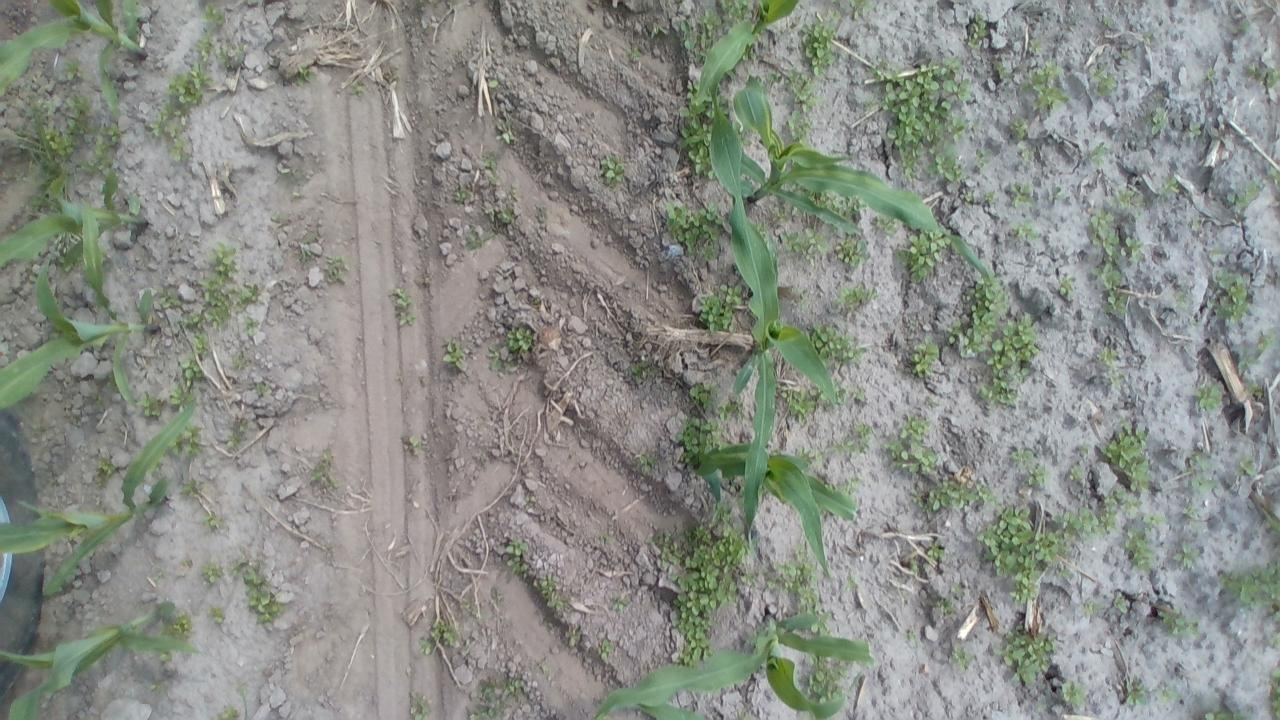Maize: (708, 88, 838, 550), (737, 75, 991, 282), (1, 398, 197, 599), (593, 612, 875, 720), (1, 252, 161, 406), (0, 600, 202, 720), (0, 168, 150, 319), (688, 444, 856, 574), (0, 0, 151, 113), (692, 0, 799, 113), (633, 701, 702, 717)
Weeds: (661, 526, 743, 660), (876, 62, 950, 172), (18, 111, 72, 196), (992, 314, 1036, 402), (979, 505, 1034, 572), (948, 287, 1002, 353), (666, 204, 720, 264), (1002, 632, 1058, 684), (1221, 564, 1280, 610), (774, 560, 816, 610), (788, 76, 818, 139), (803, 24, 837, 77), (1214, 268, 1250, 318), (170, 63, 212, 104), (1053, 508, 1101, 538), (202, 278, 232, 324), (1100, 264, 1126, 313), (698, 298, 733, 334), (682, 418, 721, 449), (910, 234, 940, 274), (1094, 212, 1120, 257), (1186, 454, 1216, 493), (1034, 84, 1066, 120), (946, 481, 992, 506), (1123, 528, 1153, 566), (1156, 606, 1194, 634), (905, 441, 937, 474), (809, 662, 840, 696), (250, 590, 282, 622), (915, 334, 940, 373), (312, 451, 338, 488), (1108, 434, 1136, 468), (47, 126, 80, 154), (1020, 62, 1058, 86), (1104, 488, 1124, 532), (214, 242, 238, 278), (1033, 532, 1059, 564), (1011, 571, 1036, 604), (1126, 460, 1151, 491), (814, 326, 845, 350), (900, 417, 927, 444), (836, 340, 866, 364), (788, 391, 812, 420), (94, 127, 118, 156), (968, 10, 986, 48), (936, 152, 958, 182), (1228, 179, 1258, 201), (507, 328, 534, 352), (150, 114, 182, 134), (1175, 542, 1200, 567), (138, 392, 162, 418), (838, 284, 871, 302), (487, 344, 509, 371), (840, 435, 871, 454), (1085, 141, 1109, 165), (202, 562, 225, 587), (883, 440, 910, 461), (1200, 386, 1222, 411), (1028, 462, 1049, 488), (944, 80, 971, 100), (168, 139, 191, 162), (602, 158, 624, 182), (410, 694, 430, 720), (720, 282, 744, 303), (328, 256, 346, 284), (1126, 677, 1144, 705), (680, 106, 705, 126), (1010, 184, 1032, 206), (927, 489, 949, 511), (1061, 679, 1082, 702), (1122, 236, 1142, 260), (806, 229, 825, 254), (689, 149, 708, 174), (1150, 110, 1168, 136), (1116, 189, 1138, 210), (837, 242, 856, 266), (201, 6, 226, 24), (192, 333, 212, 355), (682, 19, 696, 50), (170, 388, 194, 406), (1256, 66, 1276, 87), (703, 10, 724, 30), (780, 232, 802, 251), (68, 95, 94, 111), (846, 1, 870, 18), (1096, 70, 1116, 90), (679, 126, 697, 148), (1114, 46, 1134, 65), (700, 390, 719, 410), (443, 342, 462, 362), (174, 615, 193, 634), (62, 60, 82, 78), (1096, 346, 1116, 364), (494, 126, 514, 144), (240, 286, 260, 304), (711, 504, 731, 522), (436, 625, 454, 645), (476, 680, 496, 698), (244, 566, 262, 586), (197, 37, 212, 61), (637, 454, 654, 475), (1272, 676, 1280, 720), (947, 117, 963, 139), (182, 313, 205, 328), (506, 542, 530, 556), (470, 706, 494, 720), (954, 648, 970, 669), (726, 1, 748, 16), (1010, 119, 1028, 137), (508, 557, 528, 573), (183, 426, 204, 441), (694, 124, 708, 146), (992, 62, 1009, 80), (1259, 332, 1275, 351), (1206, 706, 1227, 720), (1056, 278, 1074, 294), (423, 636, 439, 654), (599, 639, 612, 661), (99, 459, 118, 474), (296, 66, 310, 86), (540, 576, 560, 590), (1114, 592, 1128, 612), (1012, 449, 1033, 462), (874, 218, 895, 231), (395, 289, 411, 306), (209, 608, 226, 624), (1068, 466, 1086, 481), (483, 152, 498, 170), (184, 362, 202, 377), (218, 706, 240, 718), (544, 592, 560, 608), (944, 56, 962, 70), (396, 312, 414, 326), (926, 544, 944, 558), (716, 404, 732, 419), (630, 366, 646, 381), (505, 678, 525, 690), (469, 233, 482, 251), (1239, 456, 1257, 469), (976, 149, 988, 168), (1141, 512, 1160, 524), (688, 383, 703, 398), (1188, 122, 1202, 138), (1102, 16, 1118, 30), (613, 594, 629, 608), (938, 598, 952, 614), (1057, 566, 1074, 579), (1020, 222, 1038, 234), (183, 479, 197, 494), (245, 316, 258, 332), (650, 26, 667, 38), (772, 208, 786, 222), (494, 212, 513, 222), (828, 198, 848, 207), (403, 437, 416, 450), (208, 514, 220, 528), (236, 350, 246, 366), (216, 45, 228, 58), (1164, 179, 1178, 190), (1206, 70, 1216, 84), (1028, 38, 1038, 52), (1086, 598, 1096, 612), (856, 424, 869, 434), (456, 190, 468, 200), (856, 386, 864, 399), (488, 80, 499, 89), (488, 174, 498, 182), (1240, 20, 1250, 28)
